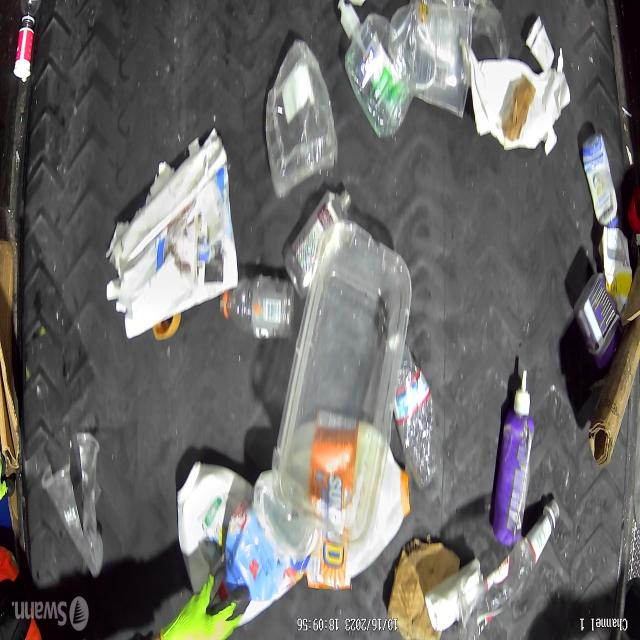milk_jug: (176, 461, 224, 589)
non_white_jug: (280, 416, 411, 591), (218, 504, 308, 603)
plastic_bottle: (461, 499, 560, 640), (265, 39, 338, 201), (336, 0, 414, 139), (390, 1, 472, 119), (283, 187, 351, 299), (393, 343, 441, 490), (218, 273, 295, 342)
